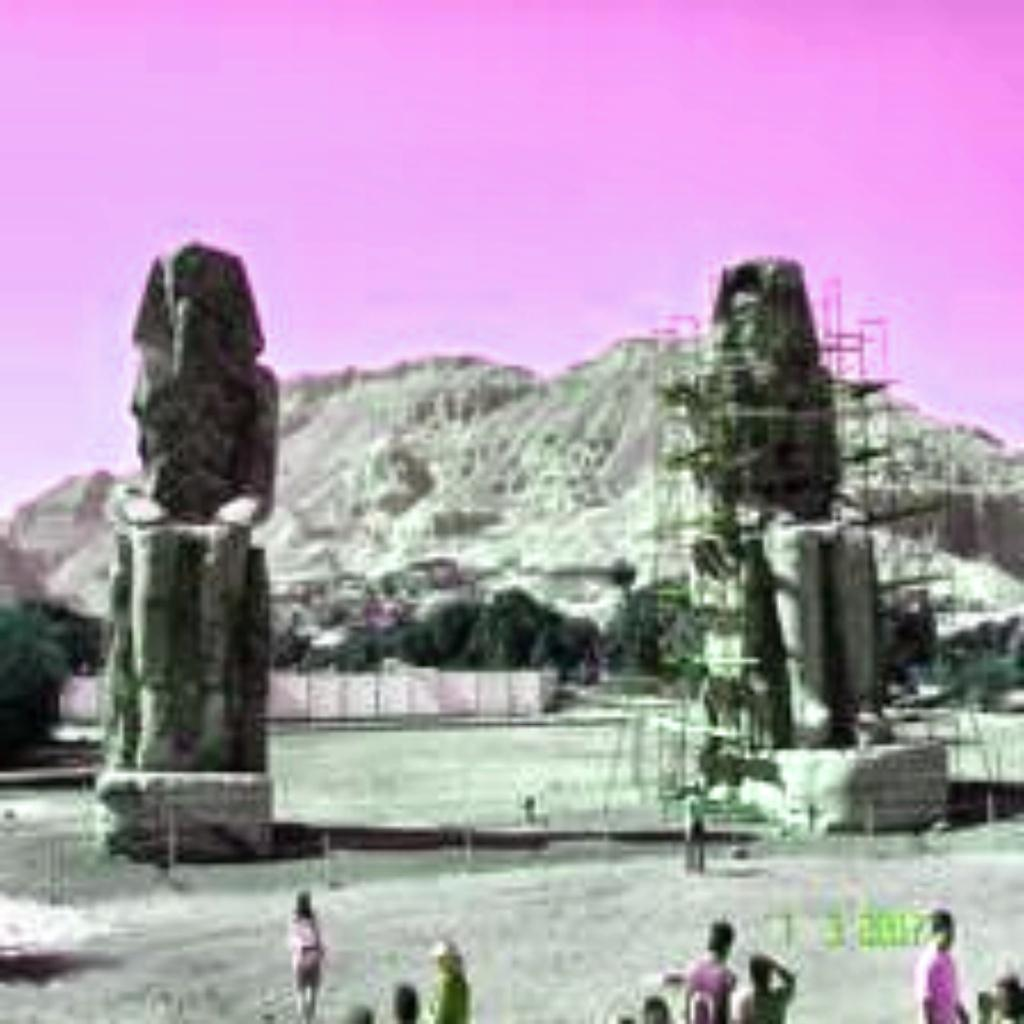Colossoi of Memnon: (82, 228, 297, 860)
